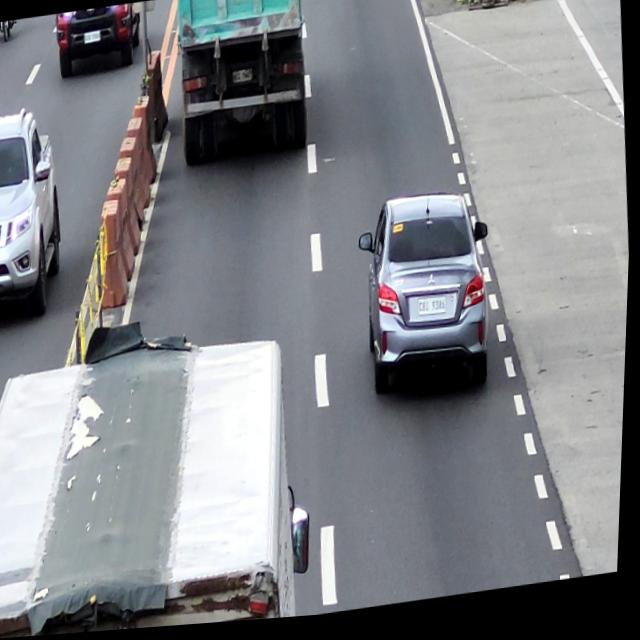Car: (353, 191, 503, 414), (0, 104, 73, 326), (55, 3, 146, 80)
License-Plate: (419, 301, 449, 324), (232, 72, 253, 88), (83, 31, 100, 45)
Truck: (0, 330, 325, 640), (170, 0, 316, 171)
